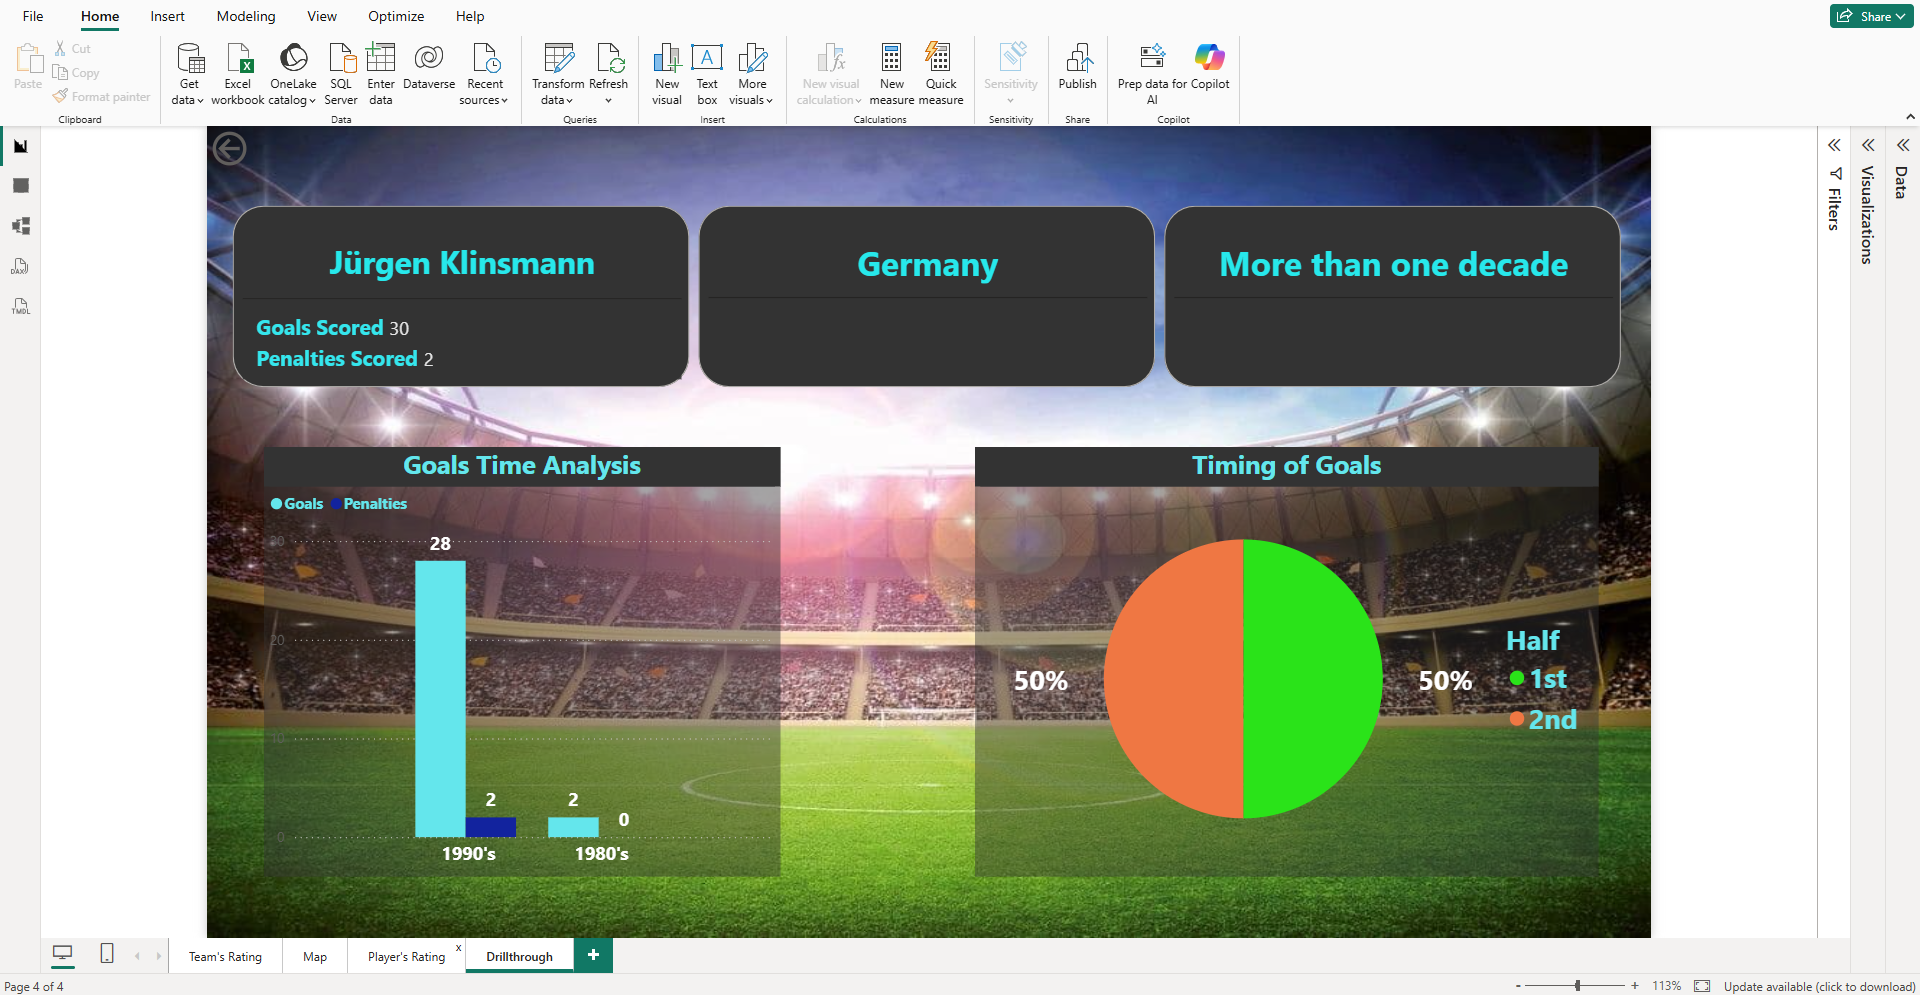

This screenshot's page, from the dashboard's own definition file:
{"tool":"powerbi","page":{"name":"Drillthrough","canvas":[1280,720],"ordinal":3},"visuals":[{"type":"cardVisual","fields":{"Data":["Min(goalscorers.scorer)","Min(goalscorers.team)","goalscorers.Years (SELECTEDVALUE)"]},"box":[17.3,65.9,1242.6,171.6],"z":0},{"type":"actionButton","box":[0,0,100,40],"z":1000},{"type":"clusteredColumnChart","title":"Goals Time Analysis","fields":{"Category":["goalscorers.Year Bins"],"Y":["goalscorers.Top Scorers (Measure)","goalscorers.Top Penalty Scorers"]},"box":[50.3,284.2,457.5,381.3],"z":3000},{"type":"pieChart","title":"Timing of Goals","fields":{"Category":["goalscorers.Half"],"Y":["goalscorers.Top Scorers (Measure)"]},"box":[681.1,284.2,552.8,381.3],"z":5000}]}

Visuals, with their boxes on the page's 1280x720 design canvas (x1, y1, x2, y2). These are canvas units, not pixel positions in the 1920x995 screenshot, which may show the page scaled, cropped or inside an application window:
cardVisual - Min(goalscorers.scorer) x Min(goalscorers.team): left=17, top=66, right=1260, bottom=238
actionButton: left=0, top=0, right=100, bottom=40
"Goals Time Analysis" clusteredColumnChart: left=50, top=284, right=508, bottom=666
"Timing of Goals" pieChart: left=681, top=284, right=1234, bottom=666
